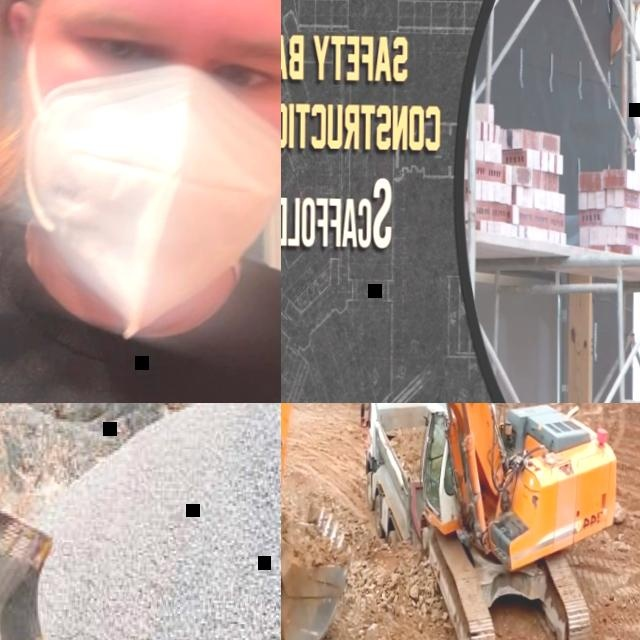Mask: (15, 62, 281, 344)
NO-Safety Vest: (0, 214, 281, 403)
Person: (0, 0, 281, 403), (445, 466, 453, 492)
machinery: (281, 403, 622, 640), (0, 403, 70, 640), (357, 403, 433, 545)
